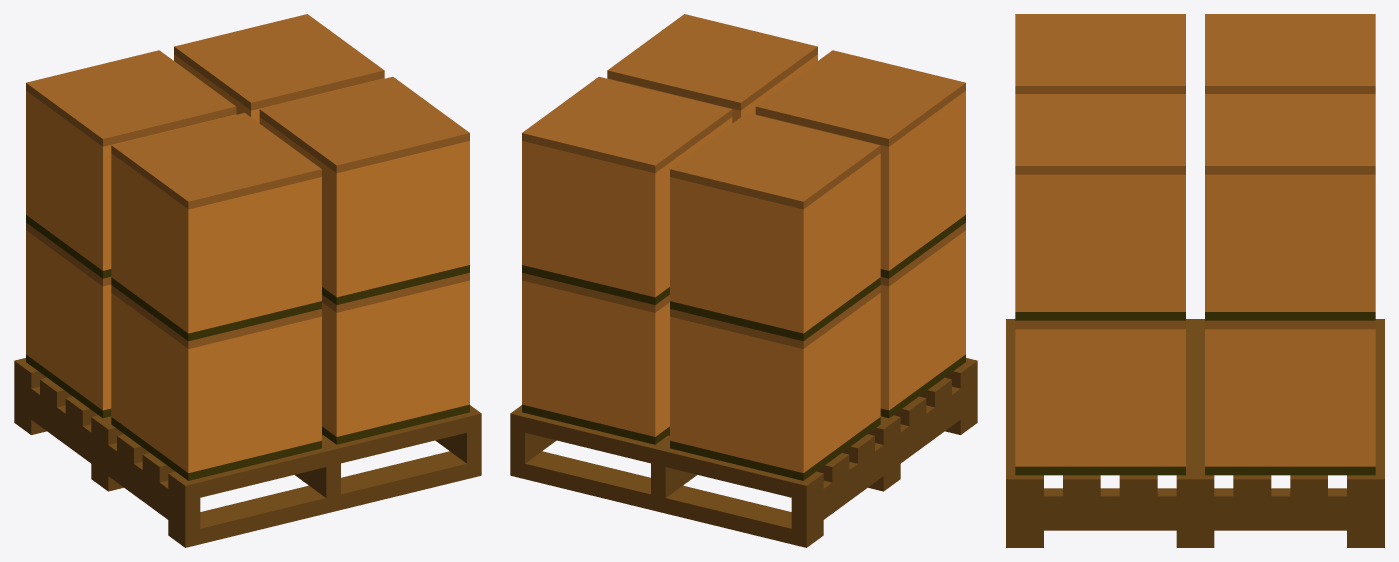
The model's file is forkliftobstacle.fbx.
The picture shows the model from 3 angles, left to right: view 1: azimuth 30°, elevation 25°; view 2: azimuth 150°, elevation 25°; view 3: azimuth 270°, elevation 25°; orthographic projection. The views are drawn at different scales.
Parts seen in each view (by area): view 1: forkliftobstacle; view 2: forkliftobstacle; view 3: forkliftobstacle.
Boxes of the visible parts, x1,y1,x2,y2 form: forkliftobstacle: (14,14,481,547); forkliftobstacle: (510,14,977,547); forkliftobstacle: (1006,14,1384,547).
Bounding box in the file's own units: 400 × 440 × 400.
